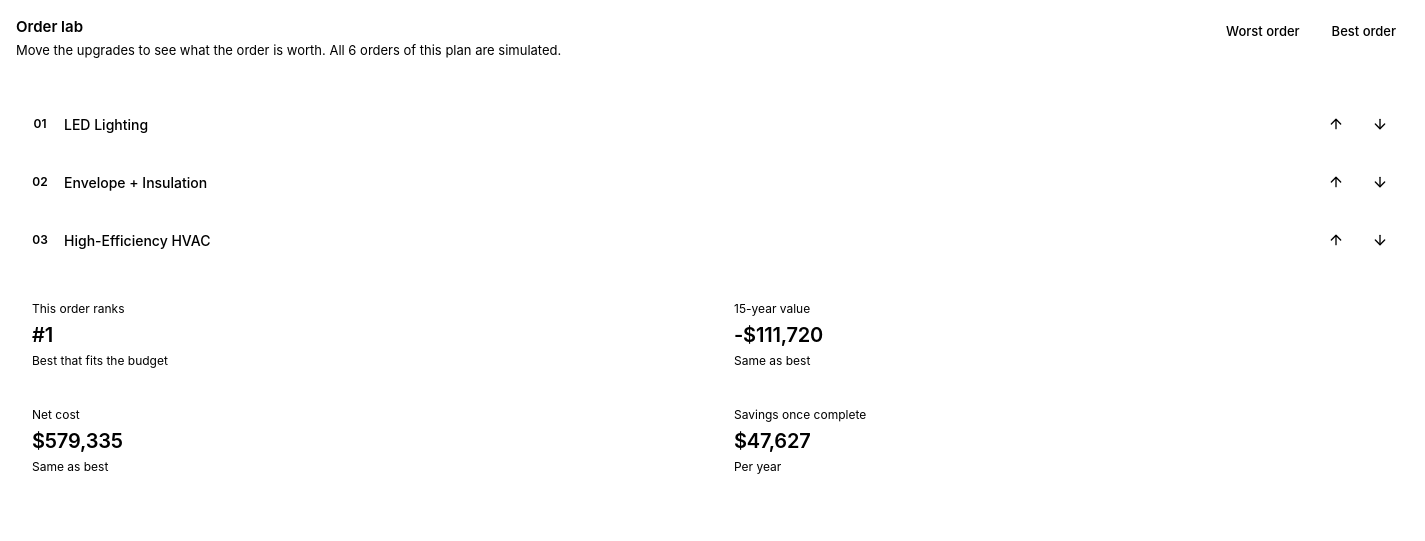
Test: OrderLab › jumps to the worst order, flags the budget, and returns to the best
Click the button "Worst order" at (1263, 32), box [1214, 16, 1312, 48]
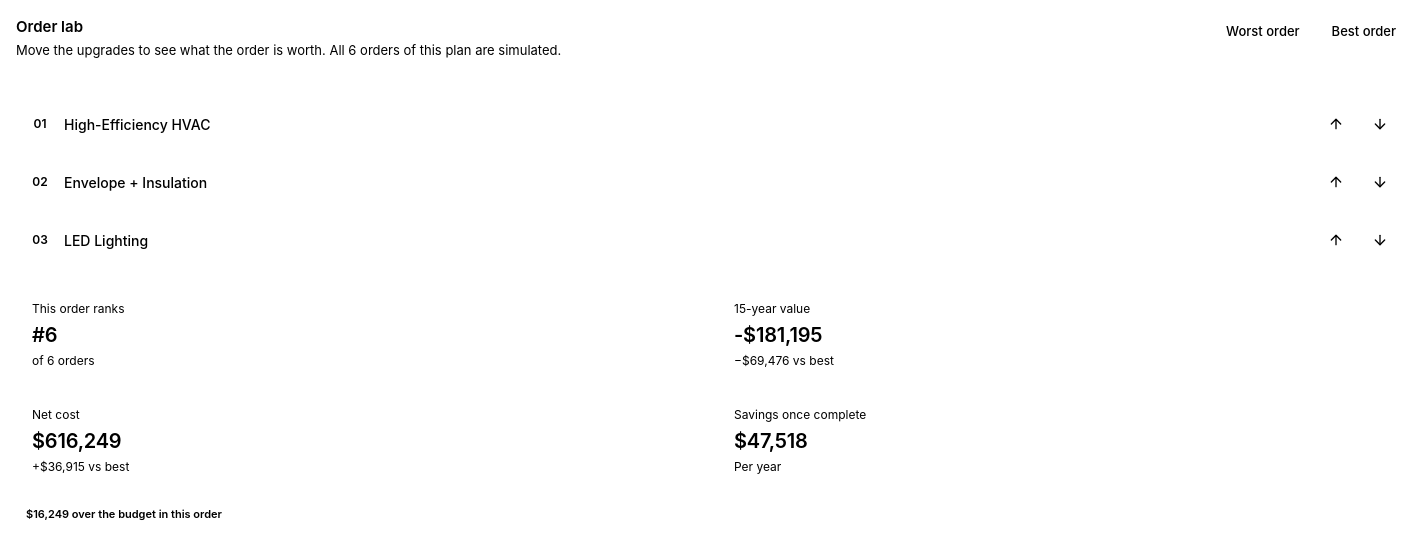
Result: the text "#6" is shown at [32, 323, 57, 347]
Result: the text "$16,249 over the budget in this order" is shown at [16, 504, 232, 524]
Click the button "Best order" at (1364, 32), box [1320, 16, 1408, 48]
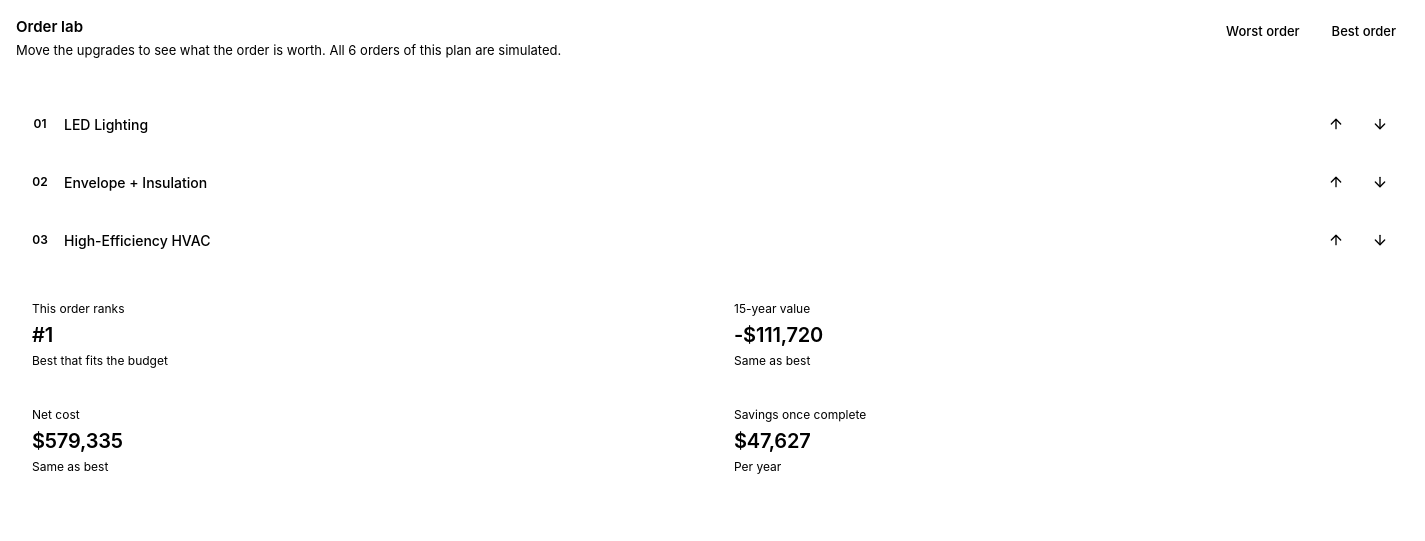
Result: the text "#1" is shown at [32, 323, 53, 347]
